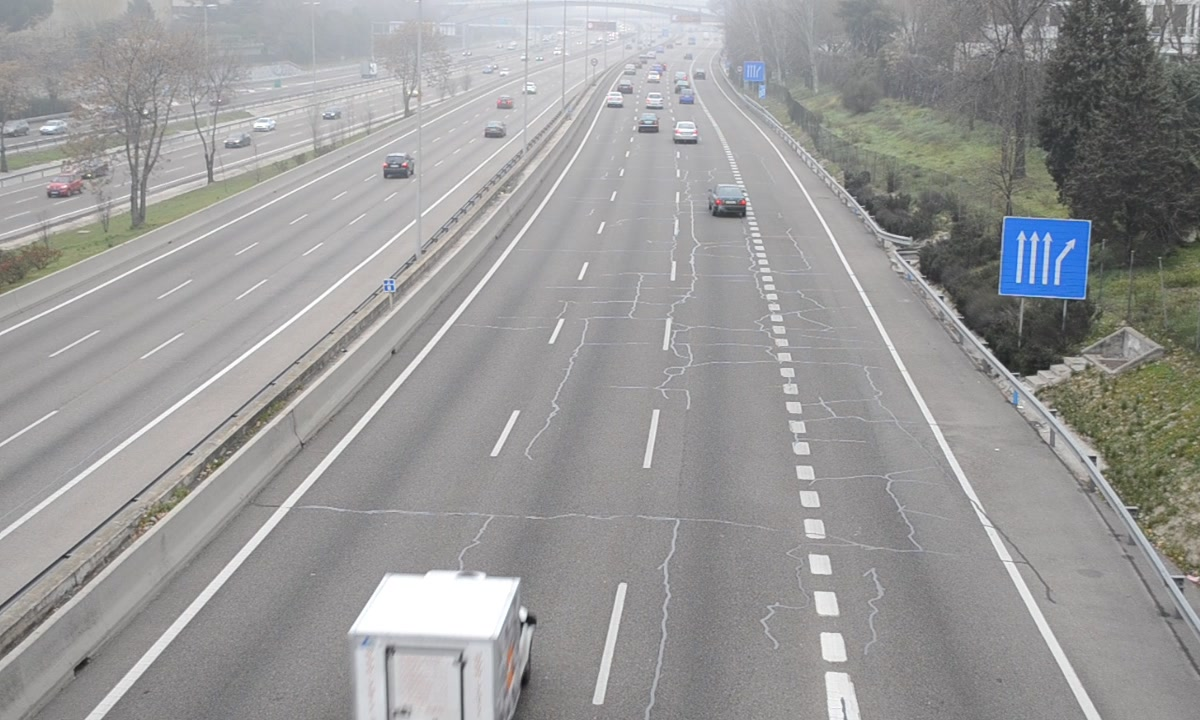car: (708, 182, 747, 218)
small-truck: (348, 573, 538, 720)
